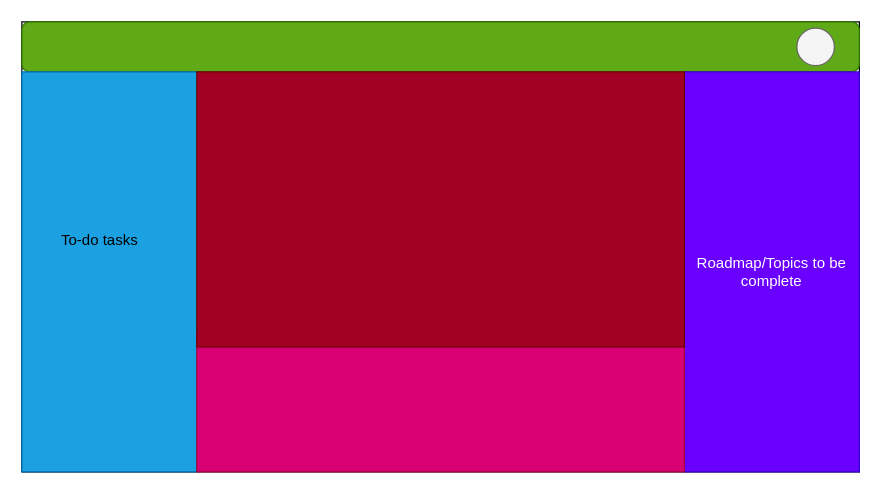
Image size: 881x494. Some labels were removed from this diagram. The box of each missing label's shape, as (x1, y1, x2, y2) in pixels:
Daily matrics: (196, 333, 684, 472)
Subtask with details: (196, 71, 684, 347)
